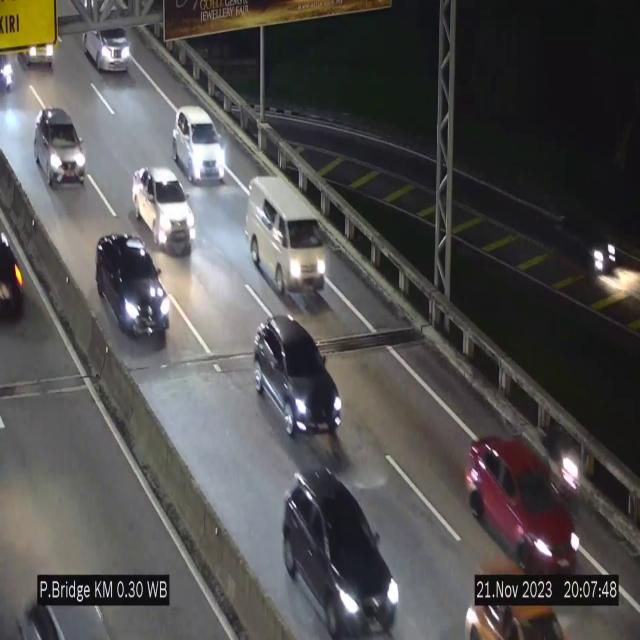Car: (284, 462, 399, 638), (466, 427, 586, 577), (250, 315, 346, 447), (458, 546, 582, 640), (246, 175, 327, 308), (96, 234, 169, 341), (13, 576, 123, 640), (132, 166, 195, 256), (547, 203, 620, 276), (172, 106, 227, 184), (35, 108, 87, 187), (0, 225, 24, 323), (84, 27, 131, 72)
Motorcycle: (558, 428, 588, 514)
